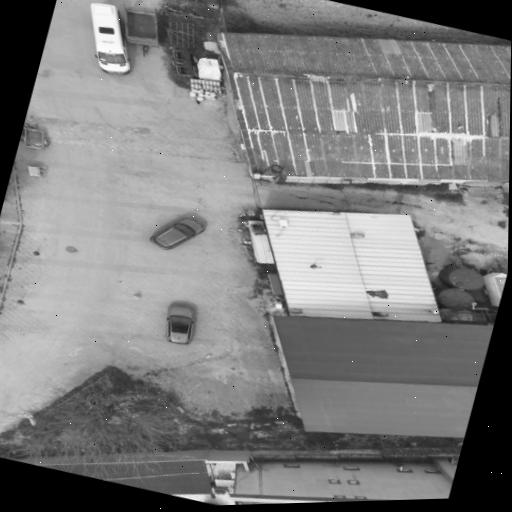car: (90, 3, 129, 75), (150, 219, 204, 249), (166, 306, 192, 344)
